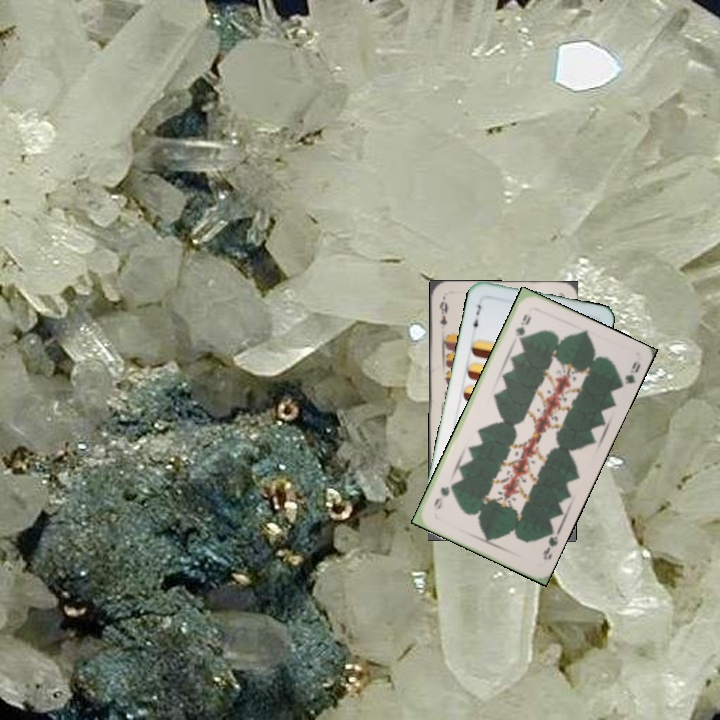E7: (468, 299, 484, 334)
E9: (435, 295, 450, 327)
G9: (539, 526, 561, 563), (511, 310, 533, 345)
